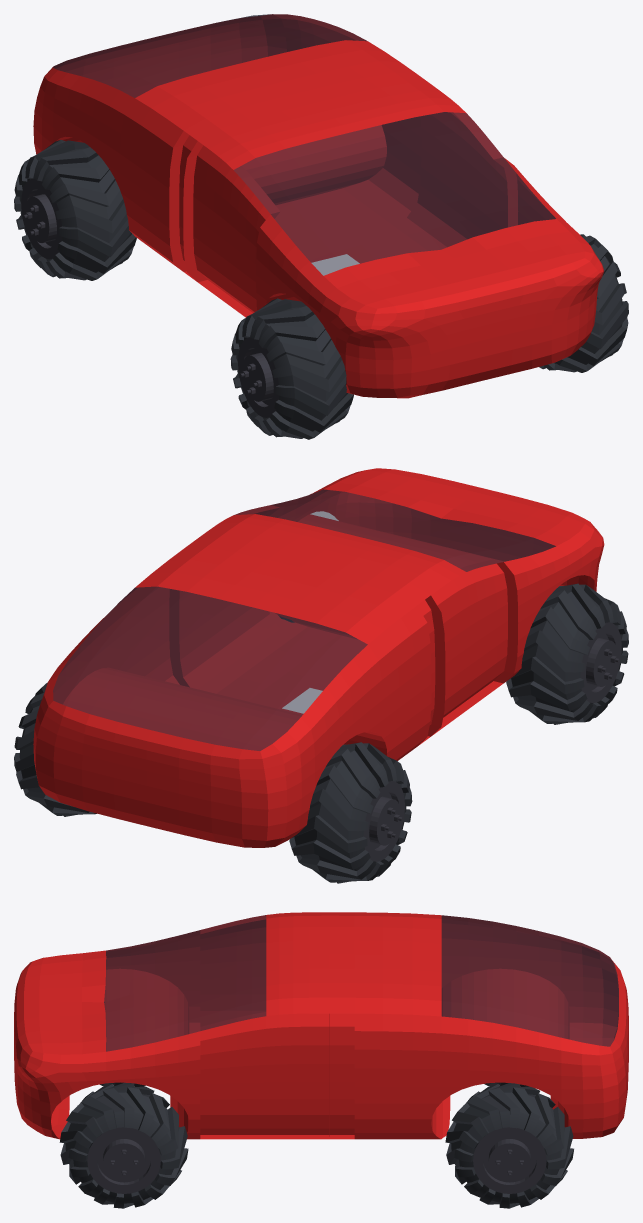
The model's file is plasticocarro.glb.
The picture shows the model from 3 angles, top to bottom: view 1: azimuth 30°, elevation 25°; view 2: azimuth 150°, elevation 25°; view 3: azimuth 270°, elevation 25°; orthographic projection. The views are drawn at different scales.
Visible parts, largest first — view 1: Cube.003; view 2: Cube.003; view 3: Cube.003.
Boxes of the visible parts, box(x1,y1,x2,y2) form: Cube.003: box(14, 14, 628, 439); Cube.003: box(14, 468, 628, 883); Cube.003: box(14, 912, 628, 1208).
Size of the model in its own units: 4.01 by 2.24 by 6.57.
